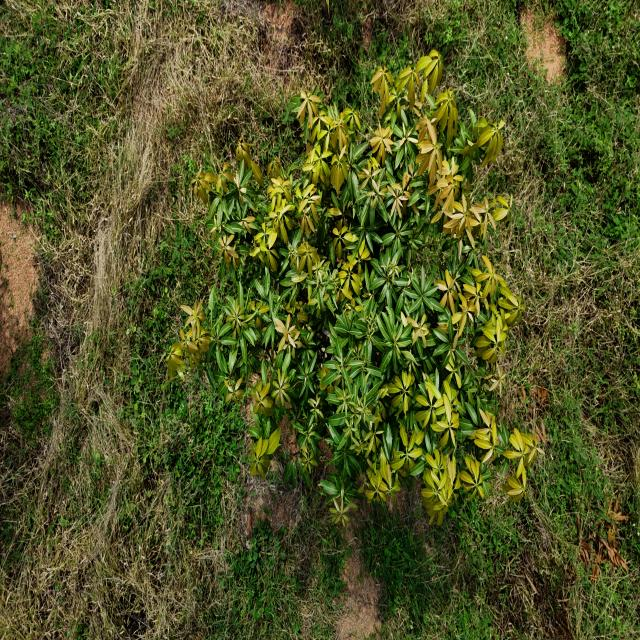mangoTree: (164, 40, 542, 530)
